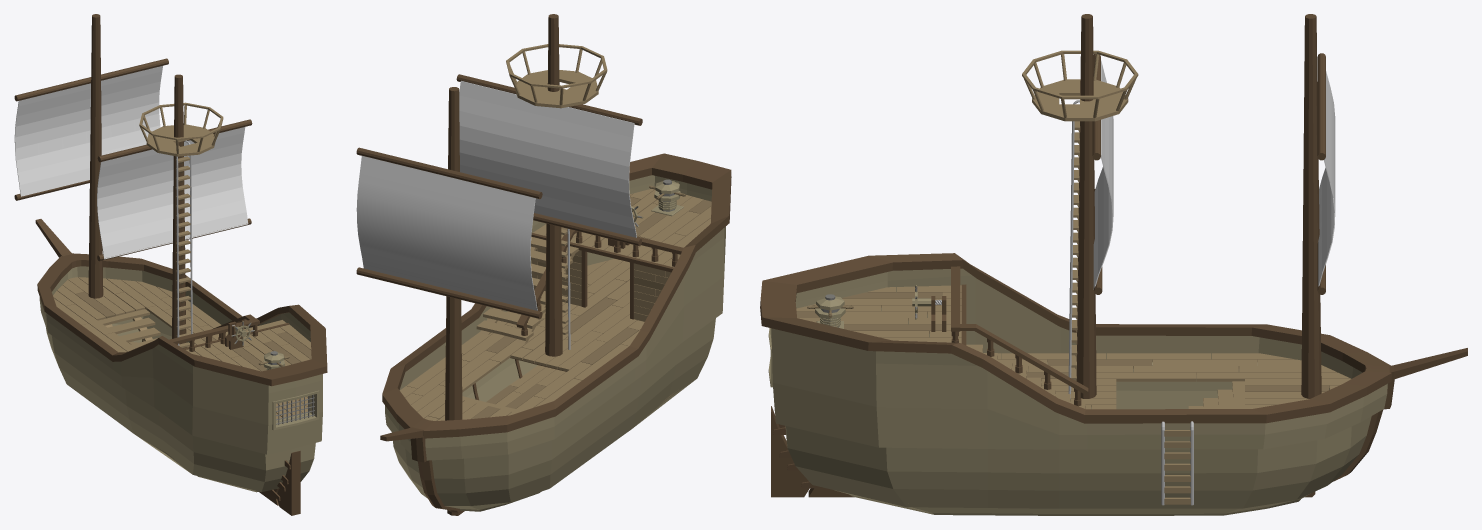
File: ShipMainArtkSon.fbx
3 views of the same model, side by side, from view 1: azimuth 30°, elevation 25°; view 2: azimuth 150°, elevation 25°; view 3: azimuth 270°, elevation 25° (orthographic). The views are drawn at different scales.
Visible parts, largest first — view 1: Vert.001, Plane.215, Plane.216, Plane.210, Cylinder.019, Cylinder.014, Plane.169, Cube.014, Cube.003, Cube.016, Cylinder.010; view 2: Vert.001, Plane.216, Plane.215, Plane.210, Cylinder.019, Cylinder.014, Plane.169, Plane.211, Cube.003, Cylinder.001, Plane.039, Cylinder.010 (+4 smaller); view 3: Vert.001, Cylinder.019, Plane.210, Cylinder.014, Plane.169, Cube.003, Plane.215, Plane.216, Cylinder.010, Cube.014, Cube.004, Cube.016 (+1 smaller).
Part boxes in pixels (bbox=[...]): Vert.001: bbox=[37, 253, 327, 492]; Plane.215: bbox=[97, 127, 248, 259]; Plane.216: bbox=[14, 66, 162, 196]; Plane.210: bbox=[53, 277, 307, 419]; Cylinder.019: bbox=[97, 74, 252, 347]; Cylinder.014: bbox=[14, 14, 168, 298]; Plane.169: bbox=[186, 324, 311, 371]; Cube.014: bbox=[175, 140, 192, 348]; Cube.003: bbox=[35, 219, 300, 515]; Cube.016: bbox=[98, 309, 160, 348]; Cylinder.010: bbox=[169, 314, 259, 351]; Vert.001: bbox=[382, 153, 731, 511]; Plane.216: bbox=[356, 156, 537, 310]; Plane.215: bbox=[459, 81, 636, 237]; Plane.210: bbox=[400, 248, 671, 420]; Cylinder.019: bbox=[456, 14, 642, 356]; Cylinder.014: bbox=[356, 87, 542, 420]; Plane.169: bbox=[533, 188, 711, 267]; Plane.211: bbox=[476, 236, 579, 343]; Cube.003: bbox=[380, 427, 464, 515]; Cylinder.001: bbox=[356, 267, 542, 318]; Plane.039: bbox=[486, 365, 676, 408]; Cylinder.010: bbox=[516, 229, 683, 335]; Vert.001: bbox=[760, 253, 1391, 515]; Cylinder.019: bbox=[1022, 14, 1138, 398]; Plane.210: bbox=[997, 353, 1351, 409]; Cylinder.014: bbox=[1301, 14, 1325, 398]; Plane.169: bbox=[796, 285, 961, 343]; Cube.003: bbox=[771, 348, 1467, 497]; Plane.215: bbox=[1093, 60, 1113, 289]; Plane.216: bbox=[1318, 71, 1335, 286]; Cylinder.010: bbox=[951, 266, 1088, 406]; Cube.014: bbox=[1068, 100, 1080, 399]; Cube.004: bbox=[1161, 421, 1193, 505]; Cube.016: bbox=[1188, 381, 1244, 408].
Size of the model in its own units: 934 by 2081 by 2796.
